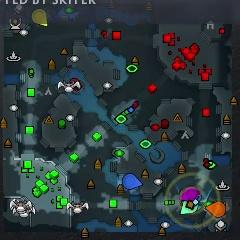p1: (123, 172, 141, 189)
p2: (181, 201, 199, 215)
p3: (180, 187, 200, 201)
p4: (32, 9, 48, 26)
p5: (205, 201, 226, 216)
x3: (197, 196, 202, 210)
